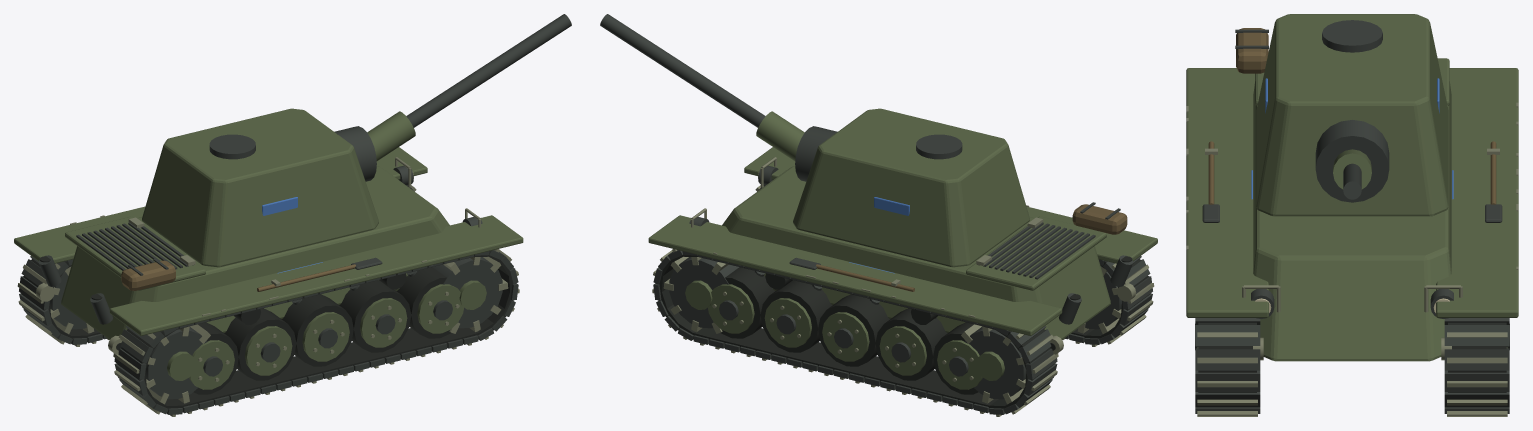
File: spg.glb
The picture shows the model from 3 angles, left to right: view 1: azimuth 30°, elevation 25°; view 2: azimuth 150°, elevation 25°; view 3: azimuth 270°, elevation 25°; orthographic projection. The views are drawn at different scales.
Visible parts, largest first — view 1: Armor, Steel, Tracks, EdgeSteel, Canvas; view 2: Armor, Steel, Tracks, EdgeSteel, Canvas; view 3: Armor, Steel, EdgeSteel, Canvas, Tracks.
Boxes of the visible parts, <box> form: Armor: <box>14,108,523,389</box>; Steel: <box>19,14,571,414</box>; Tracks: <box>22,255,515,411</box>; EdgeSteel: <box>17,157,519,416</box>; Canvas: <box>121,260,355,291</box>; Armor: <box>648,108,1157,389</box>; Steel: <box>600,14,1152,414</box>; Tracks: <box>656,255,1149,411</box>; EdgeSteel: <box>652,157,1154,416</box>; Canvas: <box>816,204,1127,291</box>; Armor: <box>1186,14,1518,361</box>; Steel: <box>1195,20,1509,413</box>; EdgeSteel: <box>1186,102,1518,416</box>; Canvas: <box>1208,28,1496,204</box>; Tracks: <box>1198,322,1506,392</box>.
Size of the model in its own units: 7 by 3.31 by 3.06.
